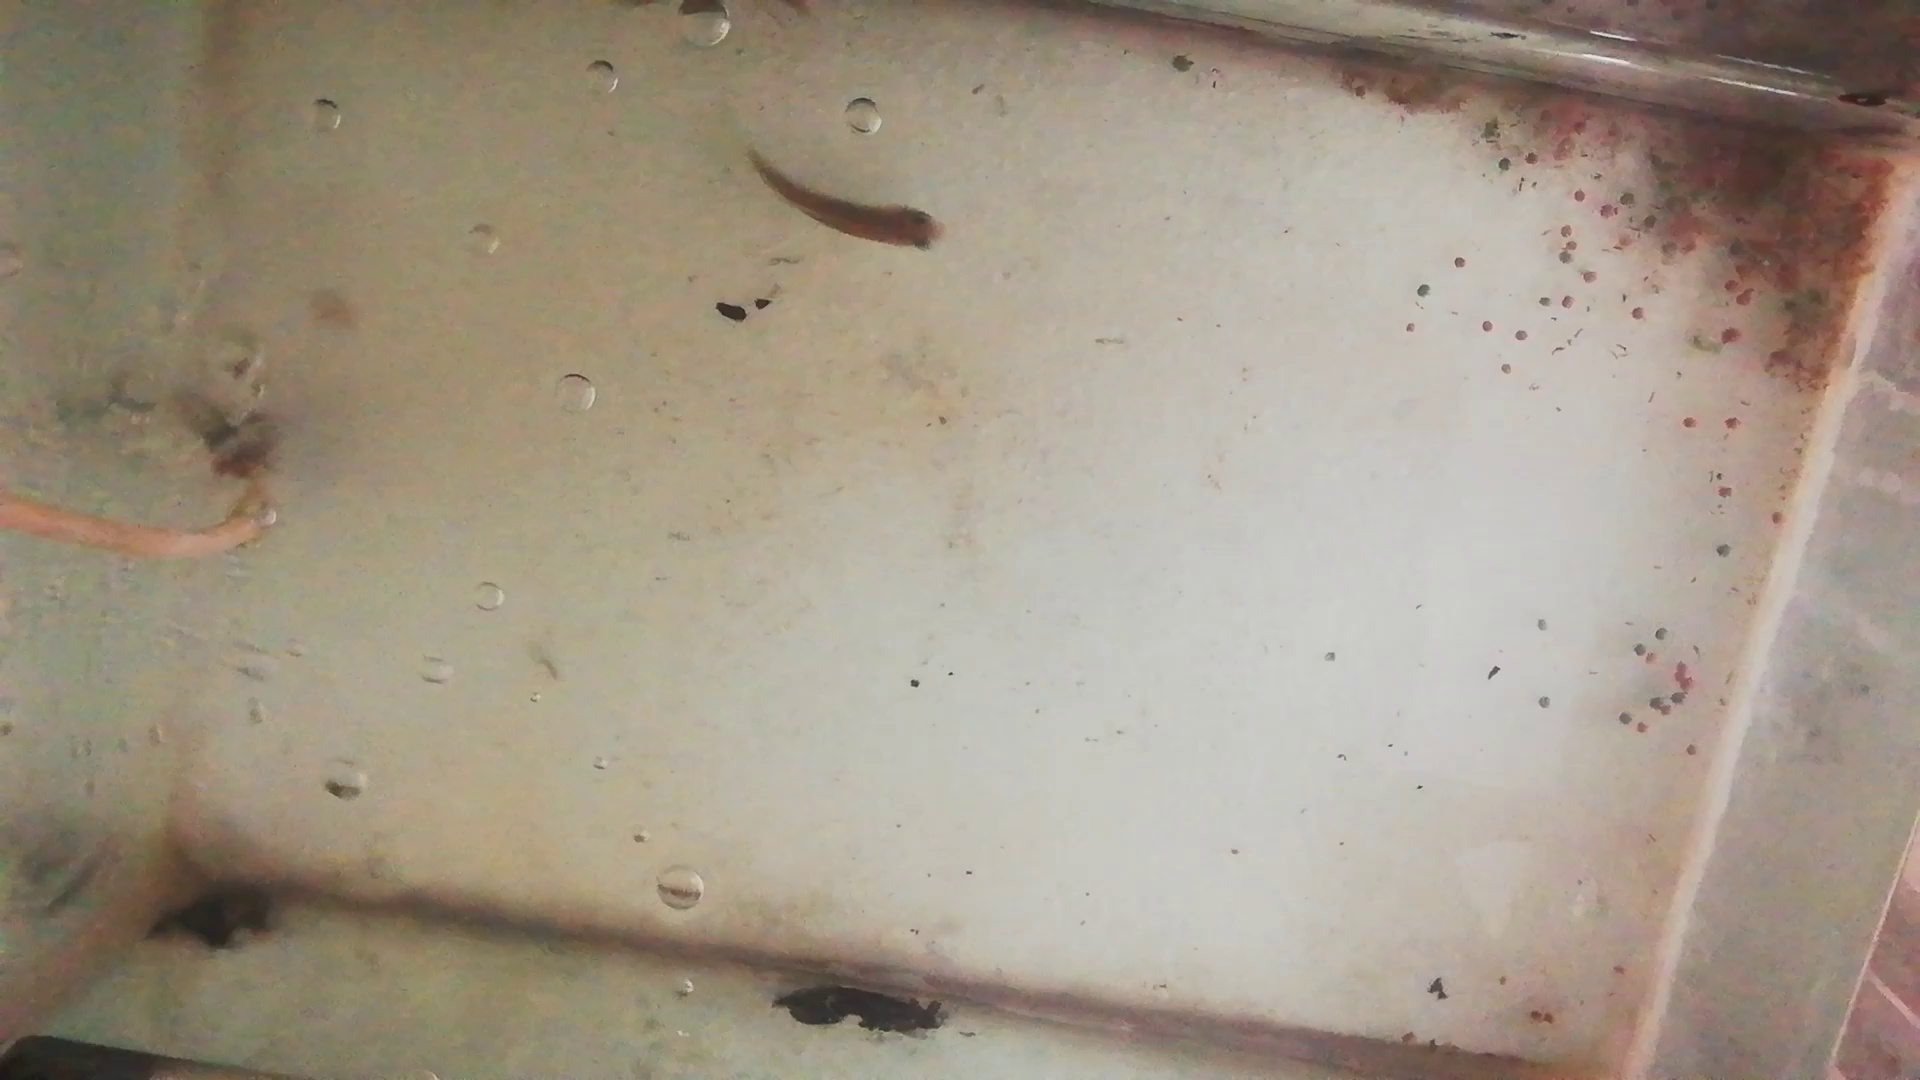fish: (744, 150, 952, 255)
